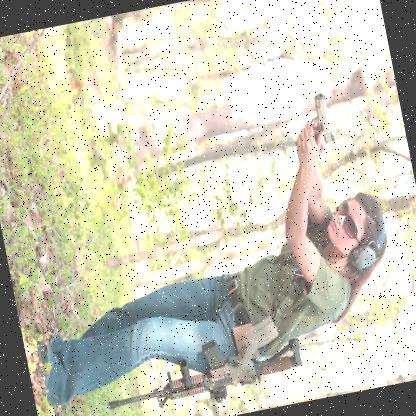rifle: (94, 320, 317, 416), (294, 88, 344, 149)
